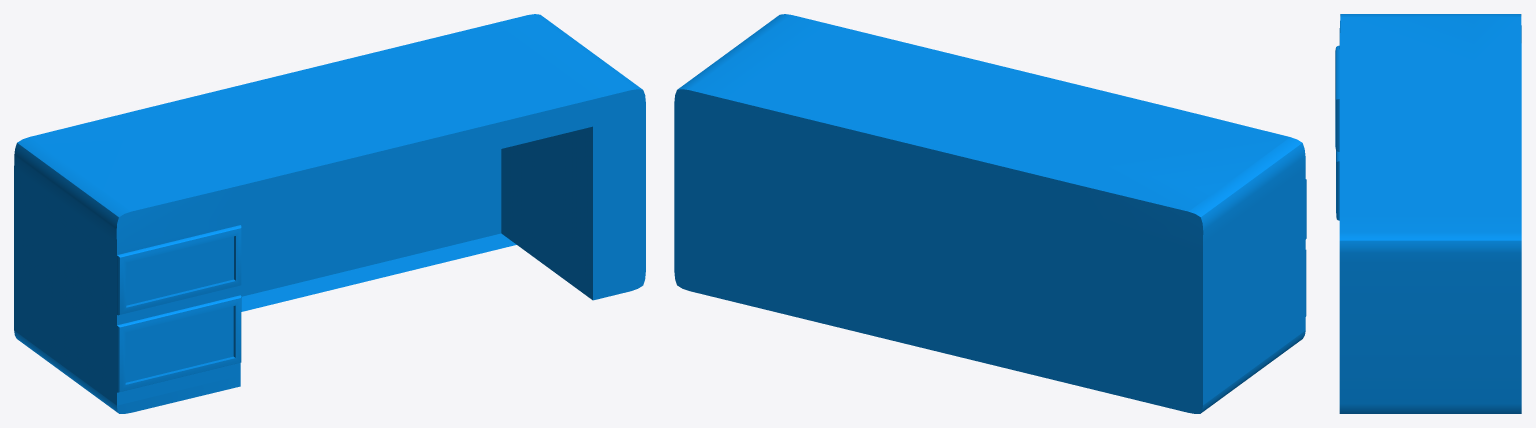
Rendered from escritorioLilium.fbx.
3 renders of one model, left to right at view 1: azimuth 30°, elevation 25°; view 2: azimuth 150°, elevation 25°; view 3: azimuth 270°, elevation 25°, orthographic. The views are drawn at different scales.
Visible parts, largest first — view 1: Escritorio; view 2: Escritorio; view 3: Escritorio.
Boxes of the visible parts, box(x1,y1,x2,y2) form: Escritorio: box(14, 14, 645, 413); Escritorio: box(674, 14, 1306, 413); Escritorio: box(1335, 14, 1521, 413).
Size of the model in its own units: 24.3 by 8.83 by 8.37.
